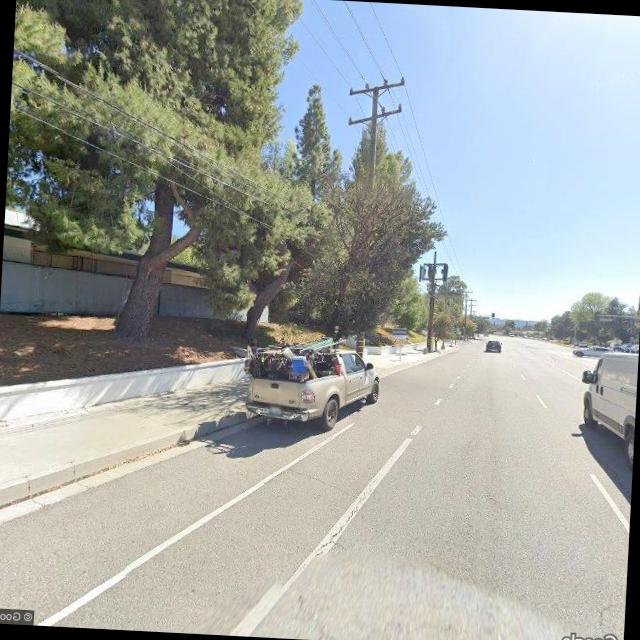pothole: (323, 476, 379, 548), (288, 468, 357, 496)
